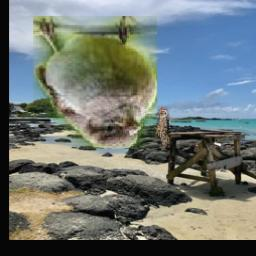Sparrow: (34, 17, 158, 150)
Woodpecker: (154, 108, 171, 149)
